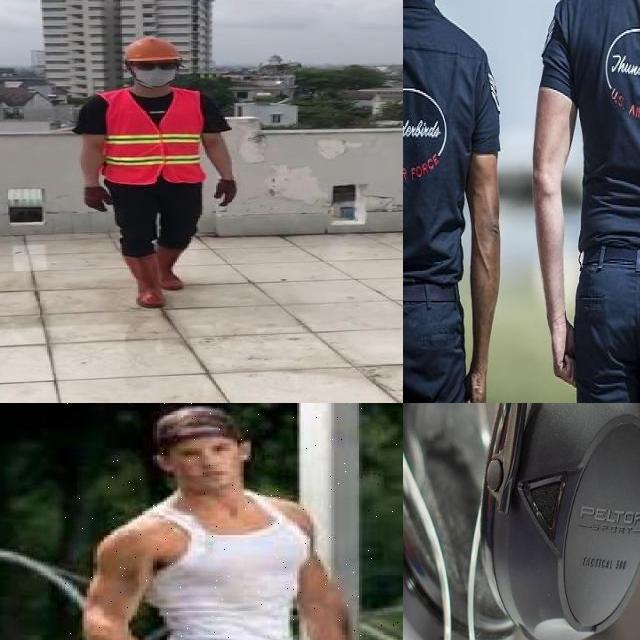Ear-protection: (479, 403, 640, 640)
No_Ear-Protection: (154, 448, 178, 477), (234, 433, 255, 466)
boots: (118, 252, 166, 308), (154, 245, 182, 290)
head_helmet: (122, 34, 180, 62)
person: (61, 403, 398, 640), (77, 36, 255, 310)
vest: (97, 89, 209, 184)
